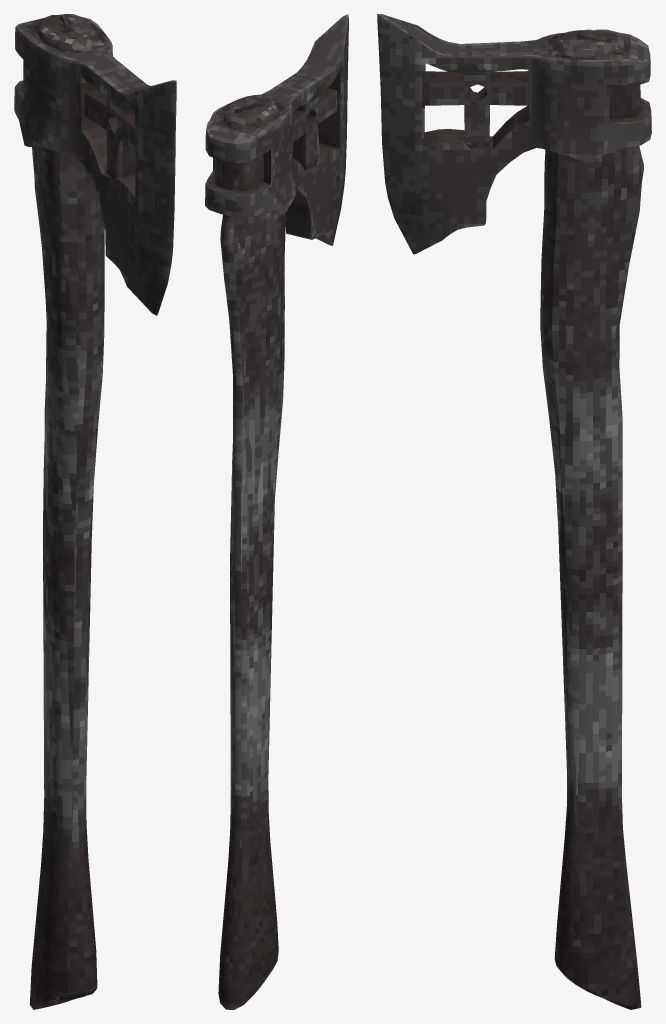
Rendered from wooden_axe_03.glb.
3 renders of one model, left to right at view 1: azimuth 30°, elevation 25°; view 2: azimuth 150°, elevation 25°; view 3: azimuth 270°, elevation 25°, orthographic. The views are drawn at different scales.
Visible parts, largest first — view 1: body; view 2: body; view 3: body.
Part boxes in pixels (x1,y1,x2,y2): body: [14, 14, 176, 1009]; body: [205, 14, 348, 1009]; body: [377, 14, 651, 1009].
Size of the model in its own units: 0.0507 by 0.6318 by 0.1584.
Materials: 1 (1 with a texture image).
